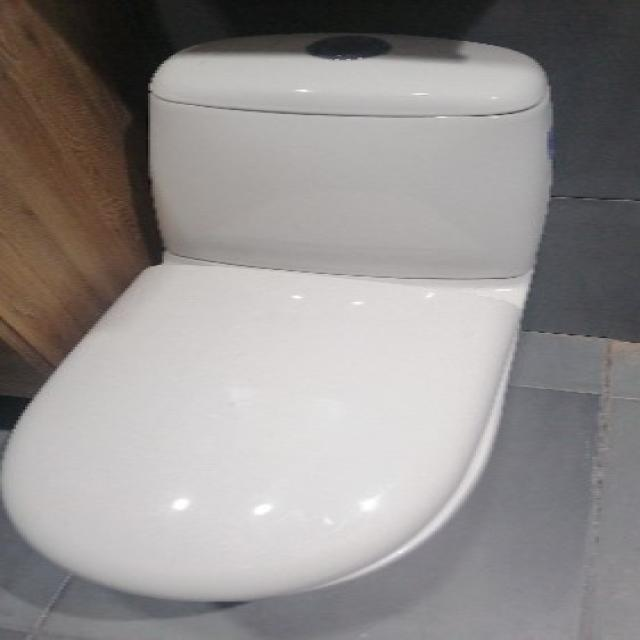toilet: (3, 26, 564, 606)
